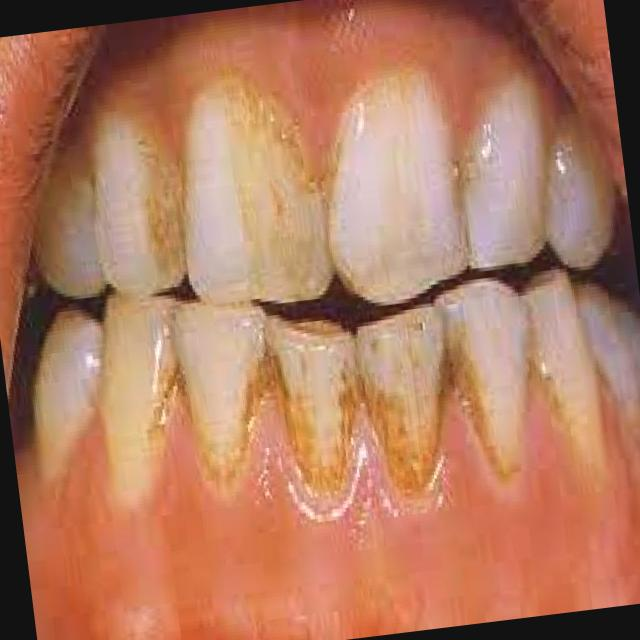calculus: (318, 72, 482, 306), (158, 90, 334, 298), (438, 266, 547, 501), (89, 281, 201, 507), (258, 301, 372, 516), (167, 286, 276, 499), (352, 314, 462, 492), (82, 115, 188, 294), (455, 92, 554, 274), (523, 292, 612, 472)
